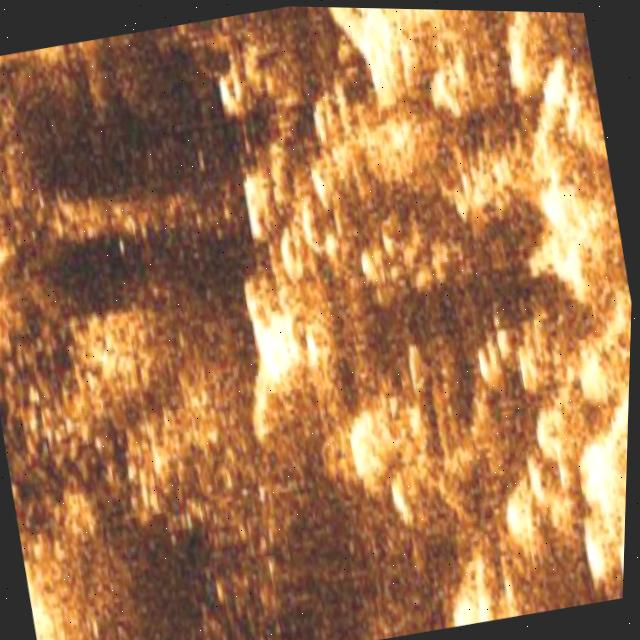bedrock group: (171, 3, 640, 640)
